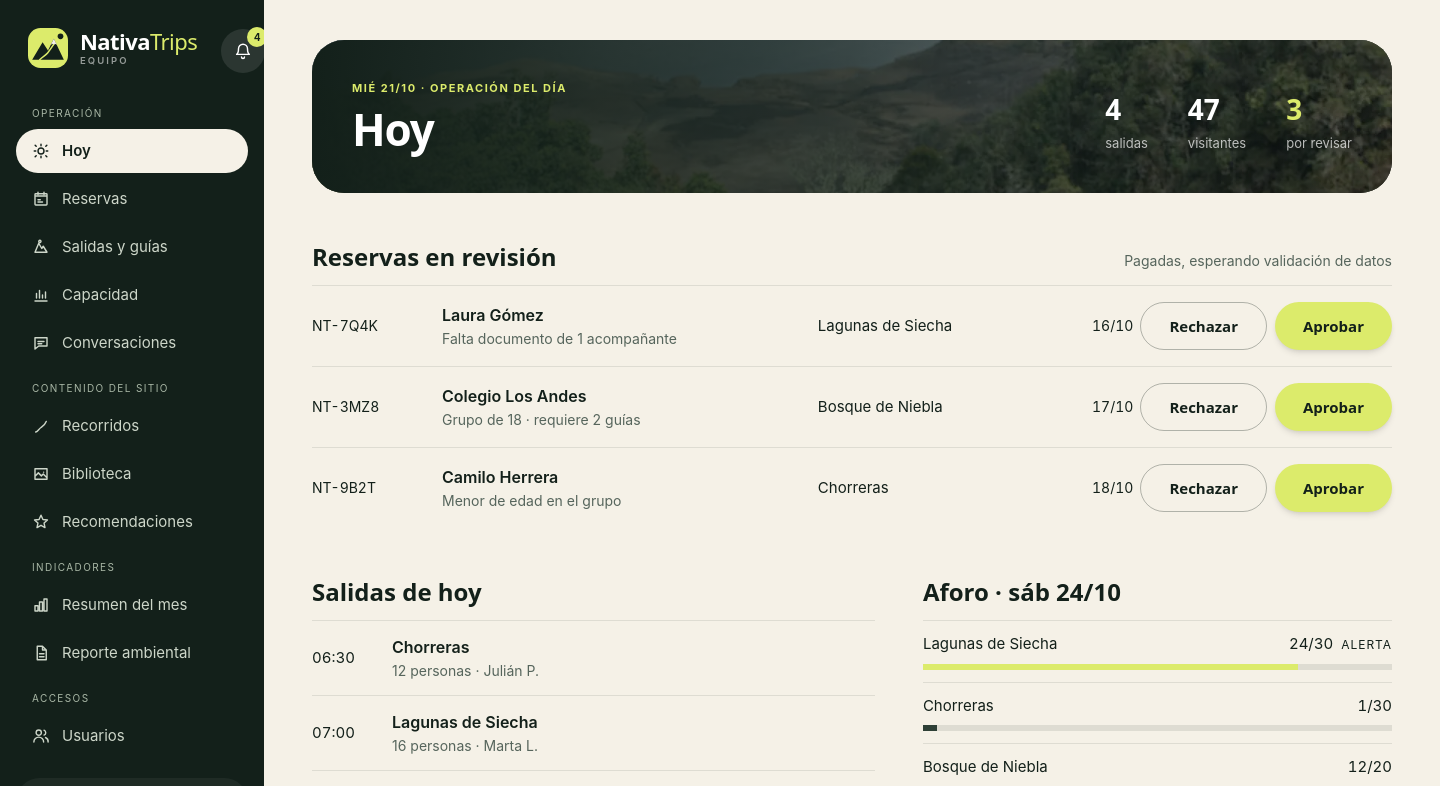
Test: acceso del equipo y paneles por rol › el administrador aprueba una reserva en revisión
Click the button with aria-label "Aprobar NT-7Q4K" at (1334, 326), box x1=1275 y1=302 x2=1392 y2=350
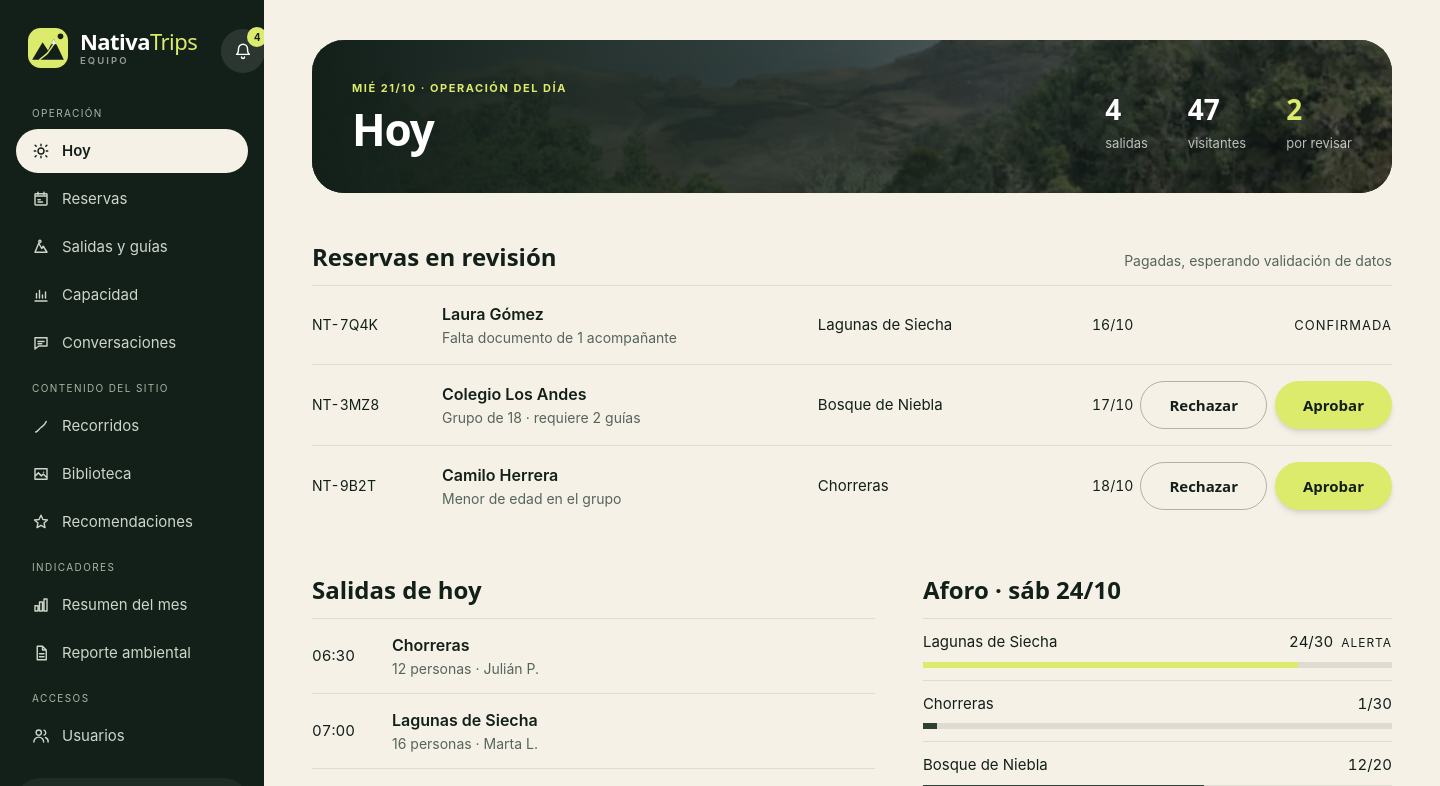
Now the message reads "Confirmada", box x1=1294 y1=317 x2=1392 y2=333
